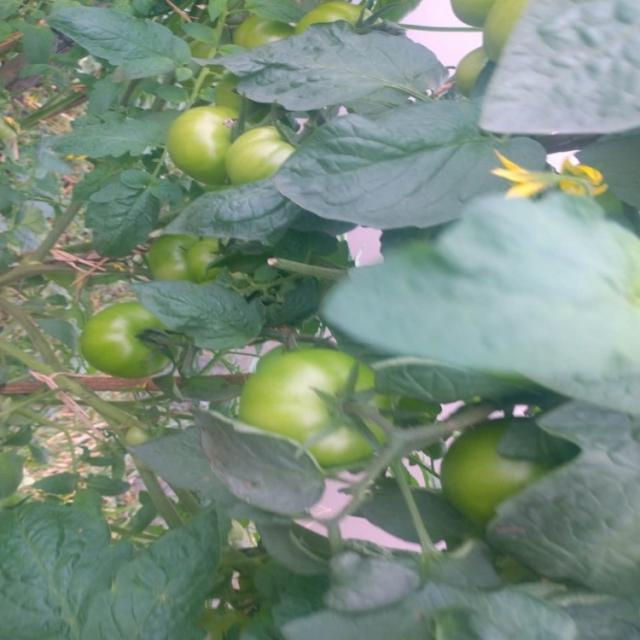tomato: (244, 342, 391, 464), (436, 420, 530, 516), (80, 295, 182, 382), (165, 106, 235, 185), (231, 121, 301, 178), (153, 231, 197, 285), (481, 2, 527, 47), (192, 236, 220, 284), (458, 50, 492, 83), (445, 1, 487, 20)
